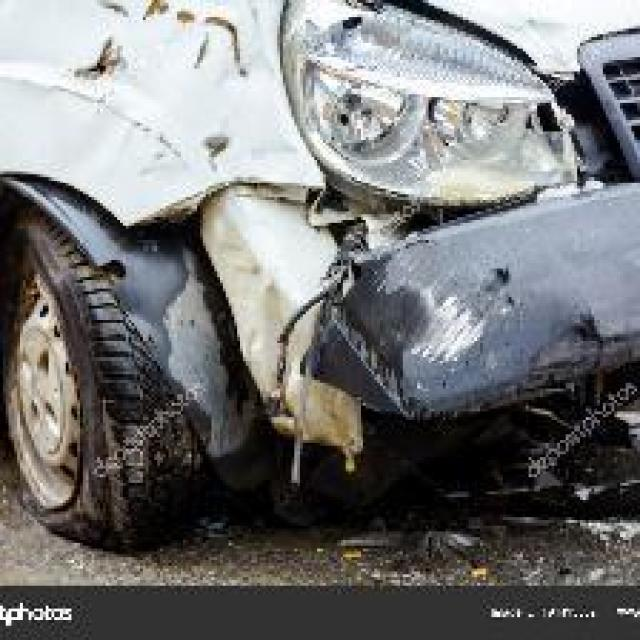damaged: (85, 3, 620, 486)
